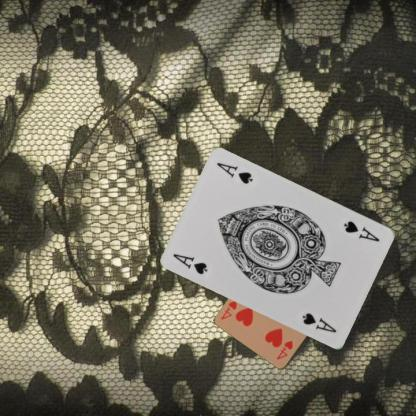4h: (274, 338, 294, 361)
As: (341, 218, 381, 243), (171, 250, 209, 275)
